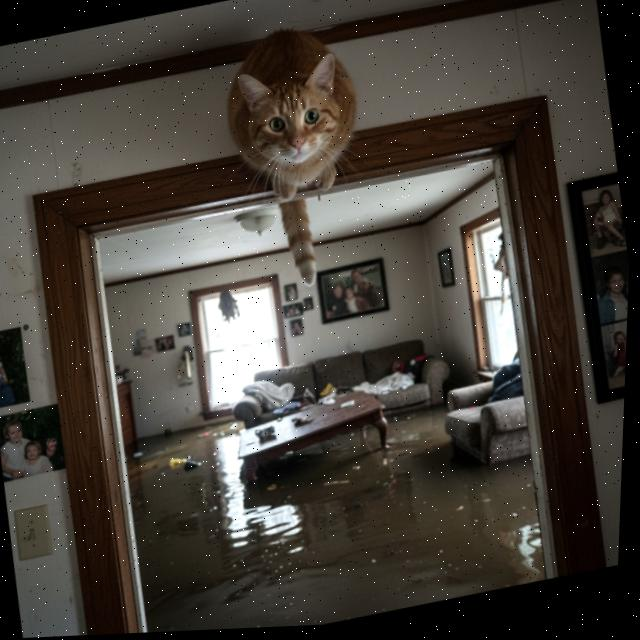cat: (199, 12, 398, 308)
